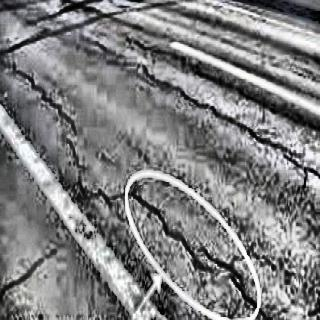crack: (134, 185, 270, 316), (190, 91, 319, 182), (3, 54, 85, 134), (6, 4, 128, 49), (66, 138, 120, 205), (0, 245, 61, 302), (123, 54, 184, 99)
